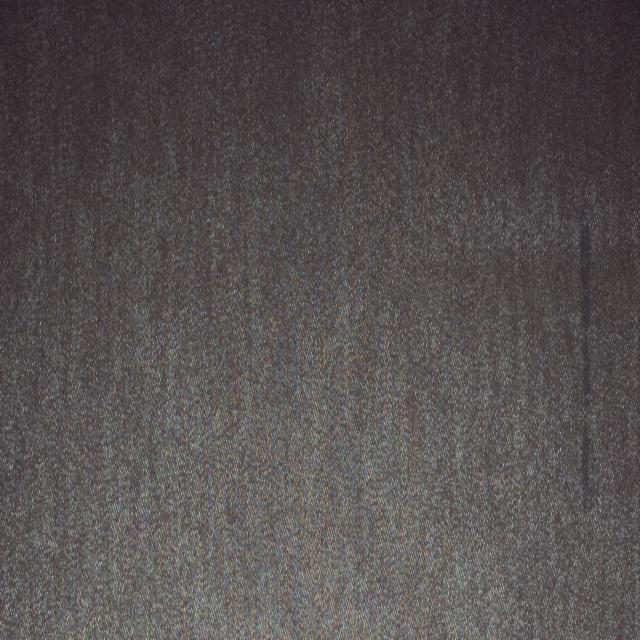Stain: (580, 211, 596, 512)
